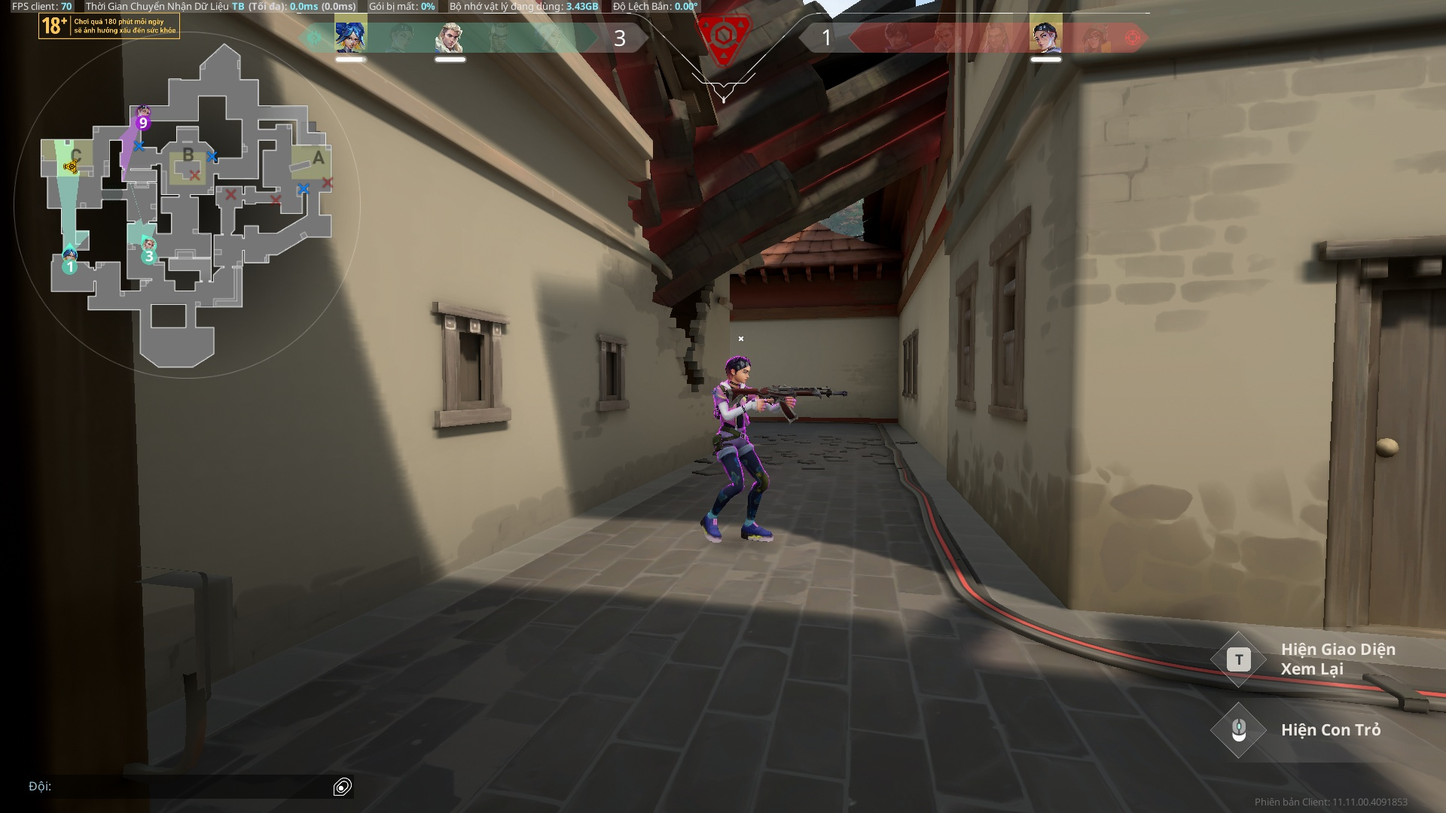body: (711, 377, 755, 428)
head: (724, 355, 752, 382)
